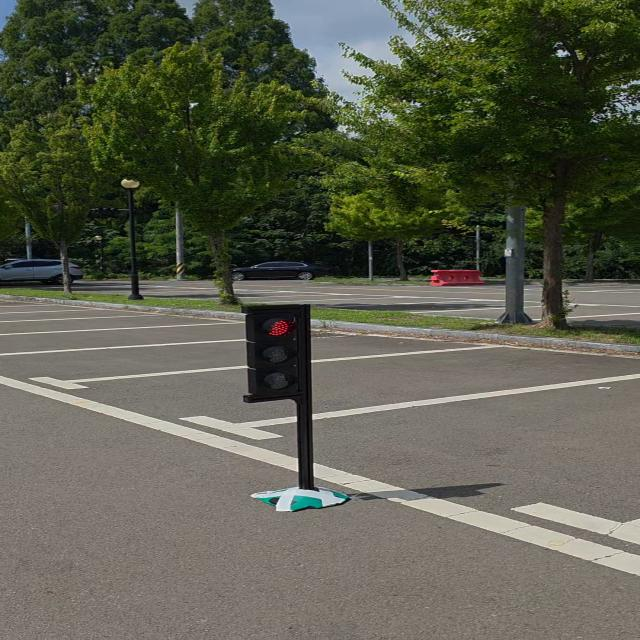red: (233, 302, 315, 406)
